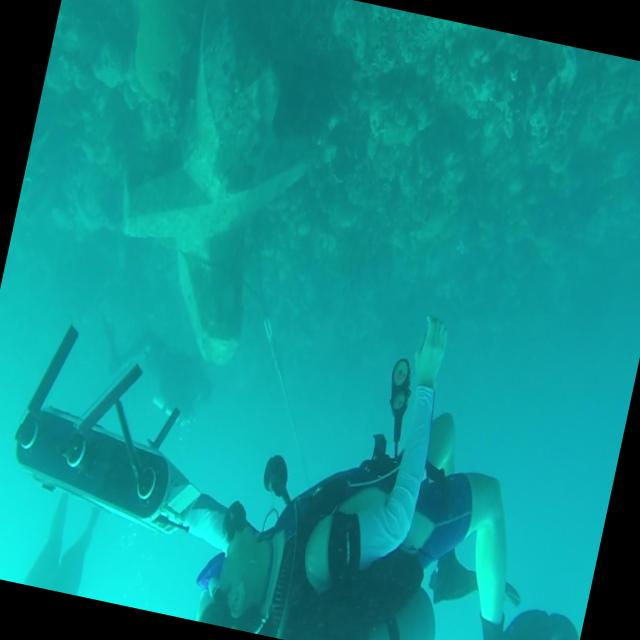human: (181, 277, 576, 640)
